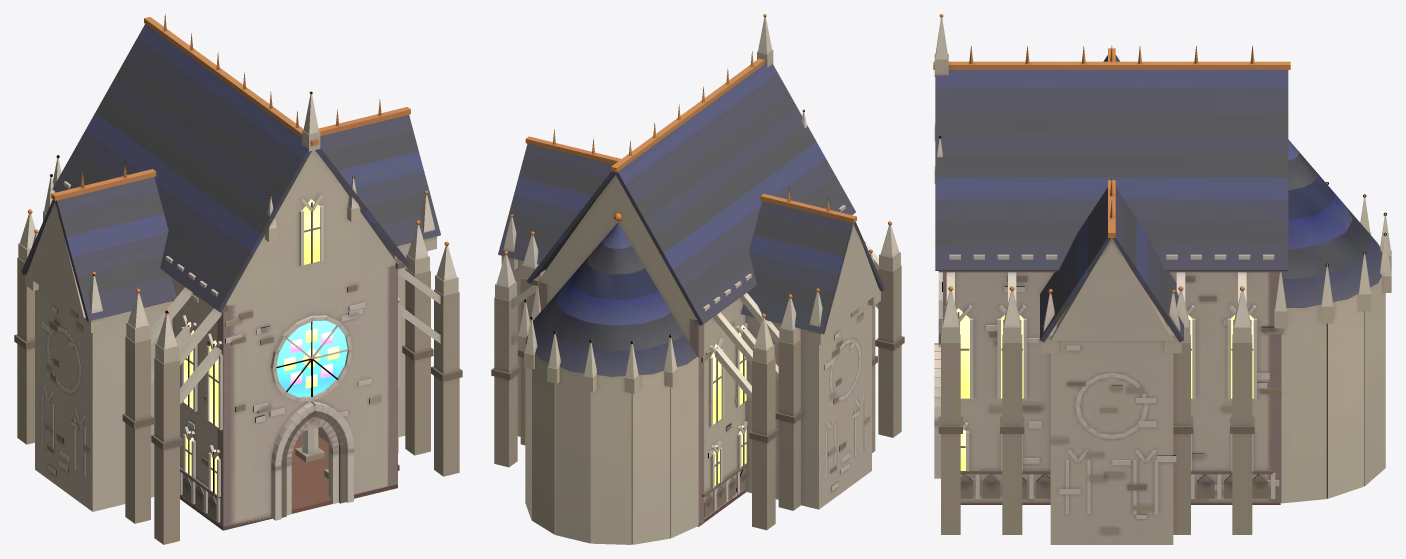
The model's file is gothic_main.glb.
The picture shows the model from 3 angles, left to right: view 1: azimuth 30°, elevation 25°; view 2: azimuth 150°, elevation 25°; view 3: azimuth 270°, elevation 25°; orthographic projection. The views are drawn at different scales.
Visible parts, largest first — view 1: main, glow; view 2: main, glow; view 3: main, glow.
Boxes of the visible parts, left/top/right/bottom form: main: left=14, top=14, right=462, bottom=544; glow: left=184, top=199, right=347, bottom=494; main: left=491, top=14, right=904, bottom=544; glow: left=711, top=325, right=746, bottom=485; main: left=933, top=14, right=1391, bottom=544; glow: left=956, top=308, right=1253, bottom=470.
Size of the model in its own units: 28.5 by 32.03 by 29.89.
Materials: 5 (1 with a texture image).
